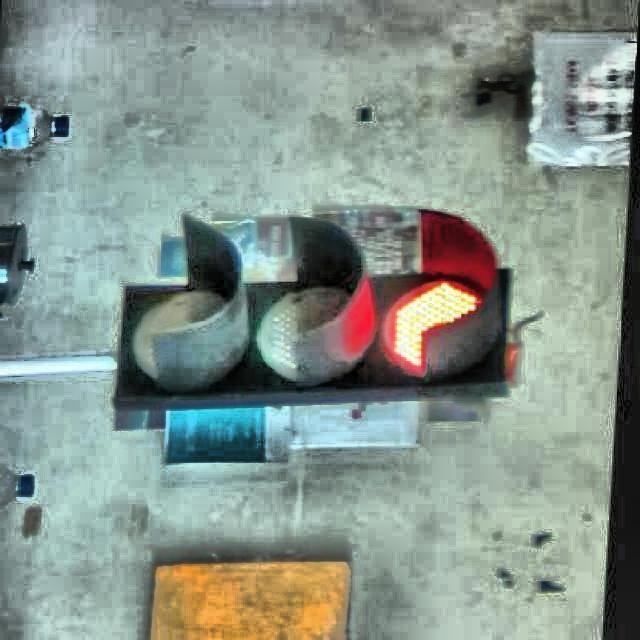red: (136, 208, 506, 388)
